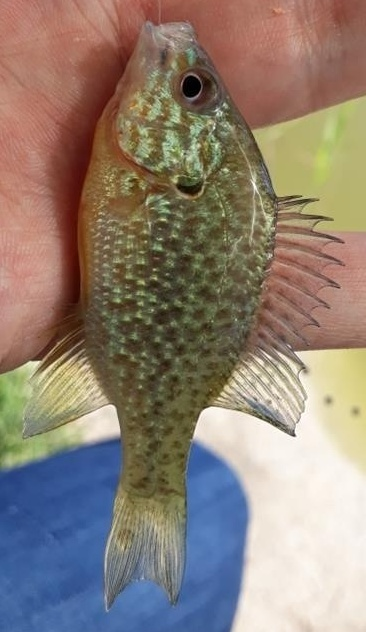Lepomis gibbosus: (20, 20, 346, 612)
